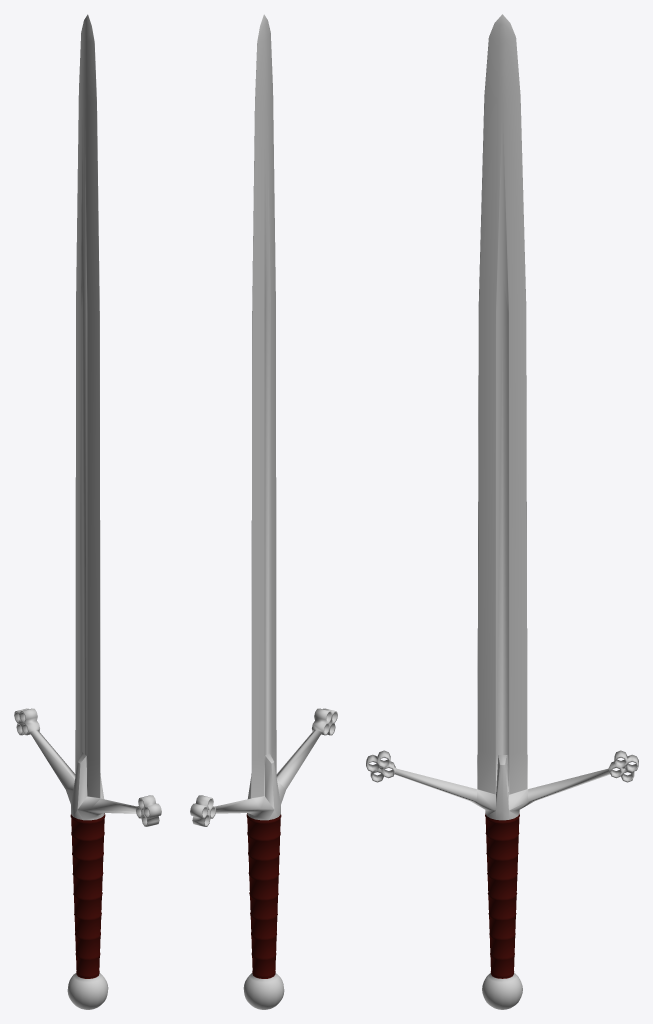
Rendered from weapon_sword.fbx.
The picture shows the model from 3 angles, left to right: view 1: azimuth 30°, elevation 25°; view 2: azimuth 150°, elevation 25°; view 3: azimuth 270°, elevation 25°; orthographic projection.
Visible parts, largest first — view 1: weapon_sword; view 2: weapon_sword; view 3: weapon_sword.
Part boxes in pixels (x1=…): weapon_sword: x1=14, y1=14, x2=161, y2=1009; weapon_sword: x1=190, y1=14, x2=337, y2=1009; weapon_sword: x1=366, y1=14, x2=638, y2=1009.
Bounding box in the file's own units: 16.36 × 438 × 109.
